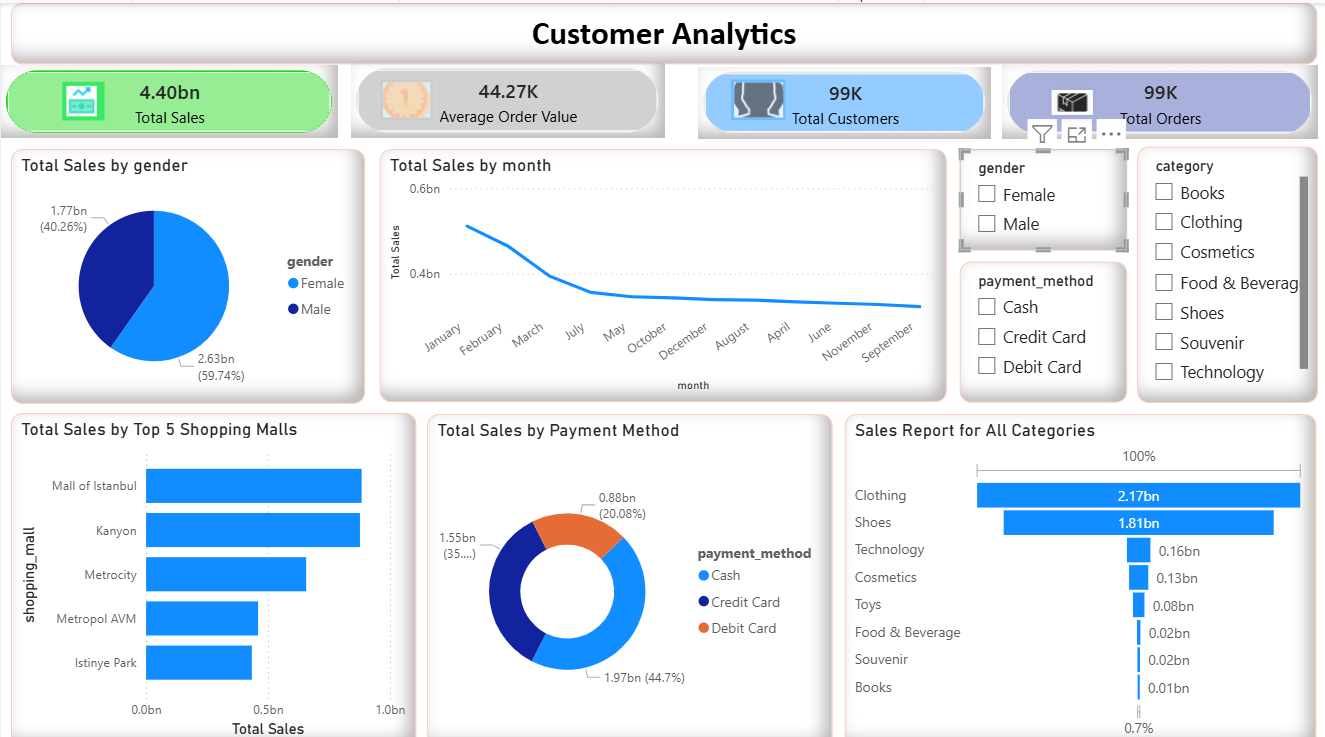

Layout of this report page (visuals, bound fields, positions):
{"tool":"powerbi","page":{"name":"Page 1","canvas":[1280,720],"ordinal":0},"visuals":[{"type":"cardVisual","fields":{"Data":["cleaned_customer_data.Total Customers"]},"box":[661.1,61.5,295.6,70],"z":0},{"type":"cardVisual","fields":{"Data":["cleaned_customer_data.Total Orders"]},"box":[966,60.4,304.6,71.4],"z":1000},{"type":"cardVisual","fields":{"Data":["cleaned_customer_data.Average Order Value"]},"box":[340.2,63.9,310.1,66.4],"z":2000},{"type":"cardVisual","fields":{"Data":["cleaned_customer_data.Total Sales"]},"box":[9.7,62.7,314.9,70],"z":3000},{"type":"textbox","box":[9.6,0,1261.1,59],"z":4000},{"type":"funnel","fields":{"Y":["cleaned_customer_data.Total Sales"],"Category":["cleaned_customer_data.category"]},"box":[814.5,397.1,455,323.1],"z":5000},{"type":"pieChart","fields":{"Y":["cleaned_customer_data.Total Sales"],"Category":["cleaned_customer_data.gender"]},"box":[9.6,141.3,341.7,245.6],"z":6000},{"type":"lineChart","fields":{"Y":["cleaned_customer_data.Total Sales"],"Category":["cleaned_customer_data.month"]},"box":[365,141.3,547.5,244.3],"z":7000},{"type":"donutChart","title":"Total Sales by Payment Method","fields":{"Y":["cleaned_customer_data.Total Sales"],"Category":["cleaned_customer_data.payment_method"]},"box":[411.7,396.6,391.1,323.8],"z":8000},{"type":"clusteredBarChart","title":"Total Sales by Top 5 Shopping Malls","fields":{"Y":["cleaned_customer_data.Total Sales"],"Category":["cleaned_customer_data.shopping_mall"]},"box":[9.6,395.2,391.1,323.8],"z":9000},{"type":"slicer","fields":{"Values":["cleaned_customer_data.gender"]},"box":[924.9,141.3,161.9,97.4],"z":10000},{"type":"slicer","fields":{"Values":["cleaned_customer_data.category"]},"box":[1096.4,138.6,174.3,247],"z":11000},{"type":"slicer","fields":{"Values":["cleaned_customer_data.payment_method"]},"box":[924.9,249.7,161.9,135.8],"z":12000},{"type":"actionButton","box":[50.7,76,49.5,47.1],"z":13000},{"type":"actionButton","box":[365.6,73.6,51.9,49.5],"z":14000},{"type":"actionButton","box":[704.6,73.6,53.1,49.5],"z":15000},{"type":"actionButton","box":[989.3,68.8,72.4,54.3],"z":16000}]}

Visuals, with their boxes in screenshot pixels (x1, y1, x2, y2), scaled from the page's 1280x720 canvas onto the 1325x737 screenshot:
cardVisual - cleaned_customer_data.Total Customers: x1=684 y1=63 x2=990 y2=135
cardVisual - cleaned_customer_data.Total Orders: x1=1000 y1=62 x2=1315 y2=135
cardVisual - cleaned_customer_data.Average Order Value: x1=352 y1=65 x2=673 y2=133
cardVisual - cleaned_customer_data.Total Sales: x1=10 y1=64 x2=336 y2=136
textbox: x1=10 y1=0 x2=1315 y2=60
funnel - cleaned_customer_data.Total Sales x cleaned_customer_data.category: x1=843 y1=406 x2=1314 y2=736
pieChart - cleaned_customer_data.Total Sales x cleaned_customer_data.gender: x1=10 y1=145 x2=364 y2=396
lineChart - cleaned_customer_data.Total Sales x cleaned_customer_data.month: x1=378 y1=145 x2=945 y2=395
"Total Sales by Payment Method" donutChart: x1=426 y1=406 x2=831 y2=736
"Total Sales by Top 5 Shopping Malls" clusteredBarChart: x1=10 y1=405 x2=415 y2=736
slicer - cleaned_customer_data.gender: x1=957 y1=145 x2=1125 y2=244
slicer - cleaned_customer_data.category: x1=1135 y1=142 x2=1315 y2=395
slicer - cleaned_customer_data.payment_method: x1=957 y1=256 x2=1125 y2=395
actionButton: x1=52 y1=78 x2=104 y2=126
actionButton: x1=378 y1=75 x2=432 y2=126
actionButton: x1=729 y1=75 x2=784 y2=126
actionButton: x1=1024 y1=70 x2=1099 y2=126
